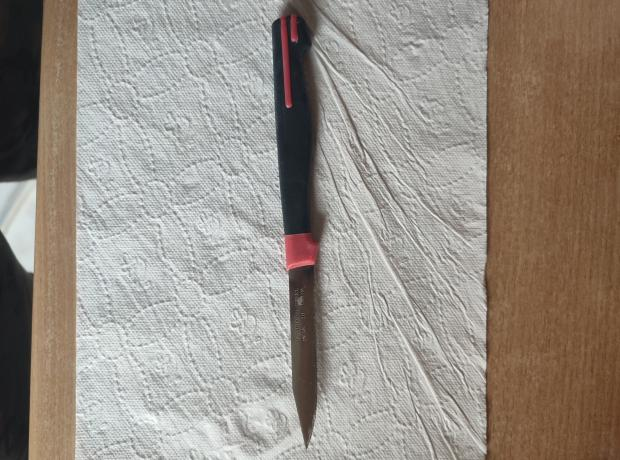metal: (271, 17, 320, 450)
